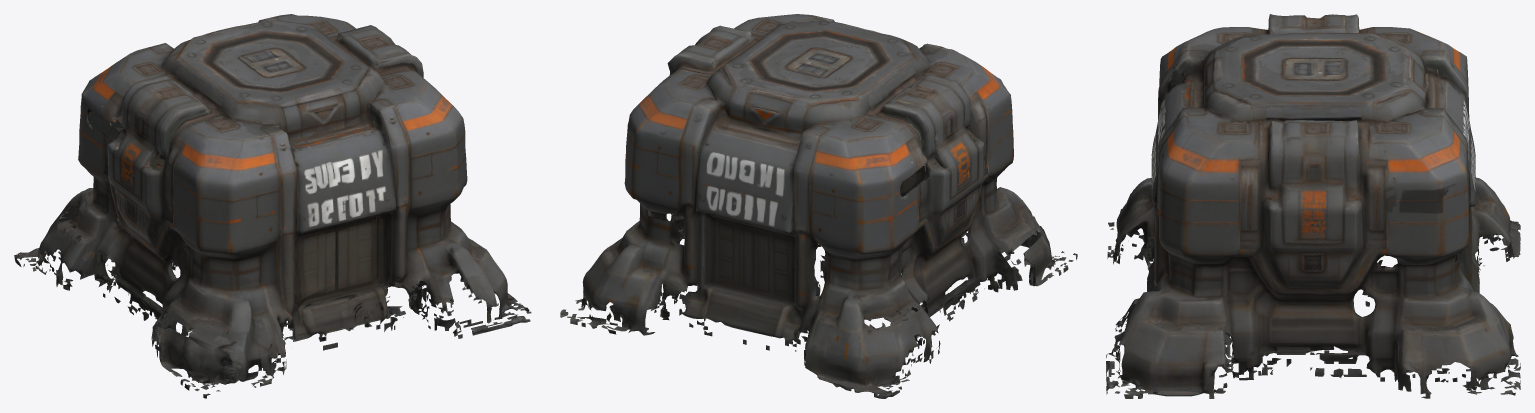
File: supply_depot.glb
3 views of the same model, side by side, from view 1: azimuth 30°, elevation 25°; view 2: azimuth 150°, elevation 25°; view 3: azimuth 270°, elevation 25° (orthographic). The views are drawn at different scales.
Size of the model in its own units: 1.99 by 1.31 by 2.
Materials: 1 (1 with a texture image).
